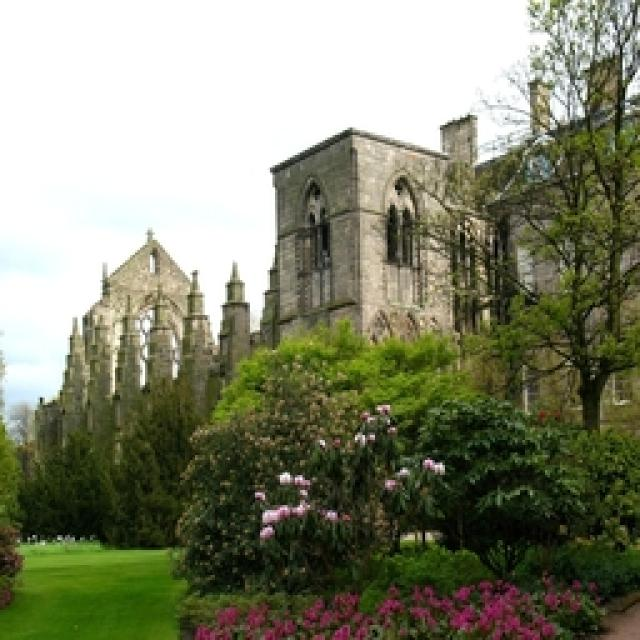Abbey: (88, 233, 640, 456)
